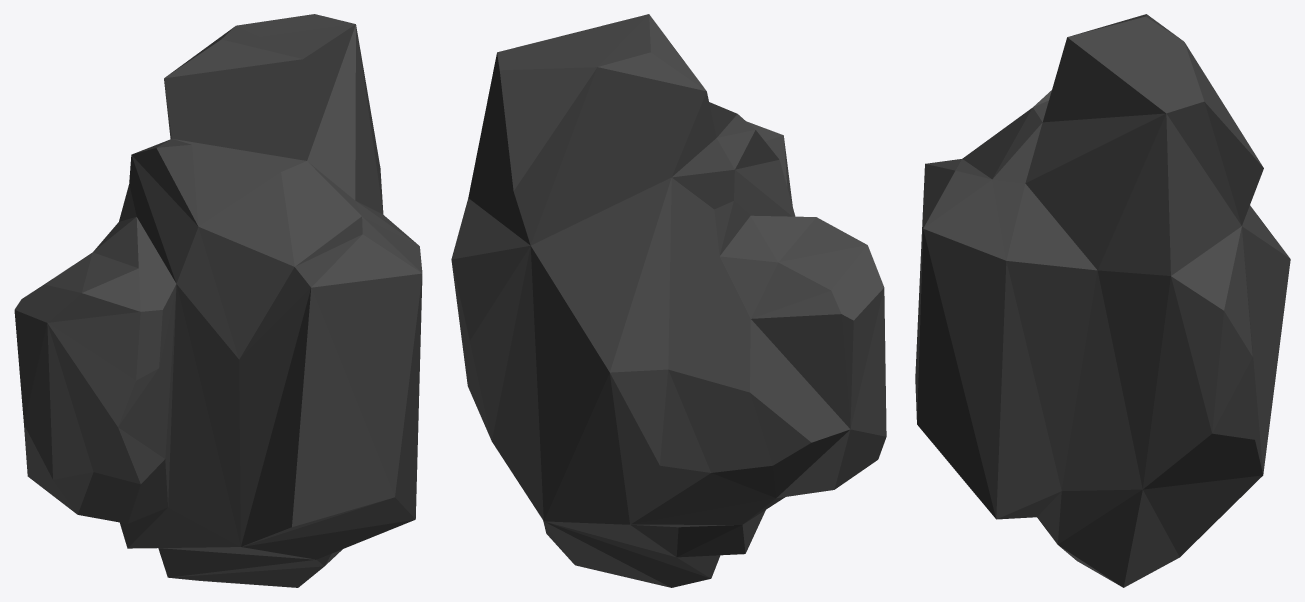
The model's file is rock__rock4_natural_dark.glb.
The picture shows the model from 3 angles, left to right: view 1: azimuth 30°, elevation 25°; view 2: azimuth 150°, elevation 25°; view 3: azimuth 270°, elevation 25°; orthographic projection.
Visible parts, largest first — view 1: rock4.natural.dark; view 2: rock4.natural.dark; view 3: rock4.natural.dark.
Part boxes in pixels (x1,y1,x2,y2): rock4.natural.dark: (14, 14, 422, 587); rock4.natural.dark: (451, 14, 886, 587); rock4.natural.dark: (915, 14, 1290, 587).
Size of the model in its own units: 3.13 by 4.25 by 2.74.
1 material, 1 textured.
